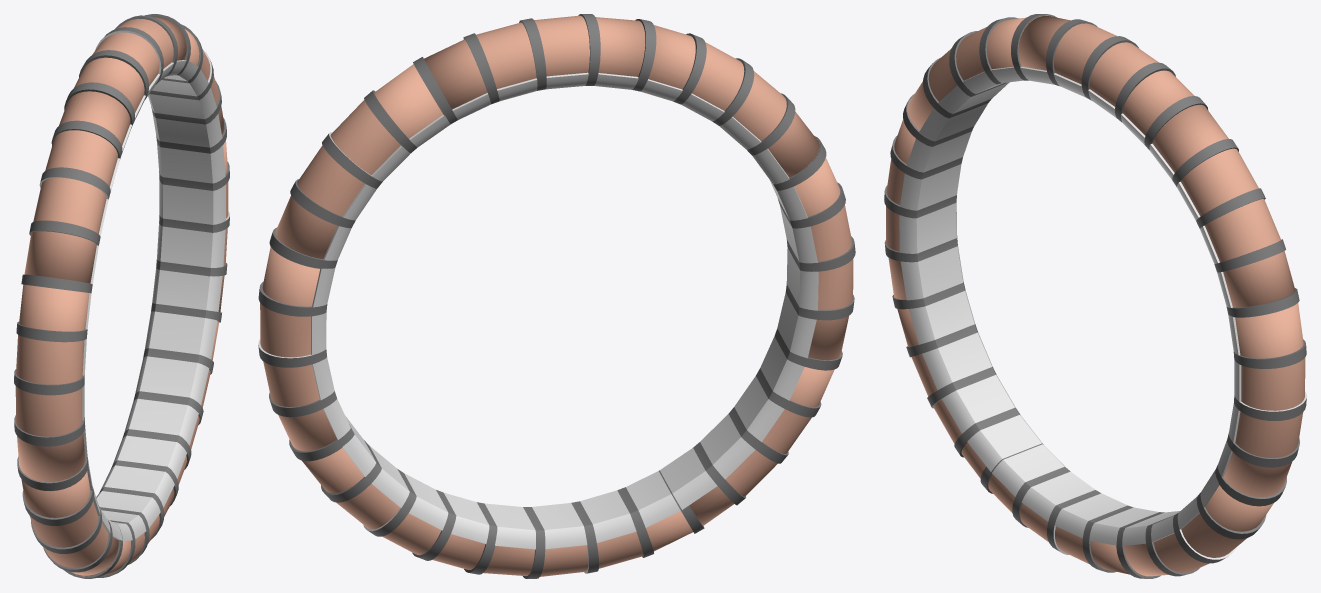
Rendered from tubecircle.fbx.
The picture shows the model from 3 angles, left to right: view 1: azimuth 30°, elevation 25°; view 2: azimuth 150°, elevation 25°; view 3: azimuth 270°, elevation 25°; orthographic projection. The views are drawn at different scales.
Parts seen in each view (by area): view 1: window2.005; view 2: window2.005; view 3: window2.005.
Part boxes in pixels (x1,y1,x2,y2): window2.005: [14, 14, 229, 578]; window2.005: [258, 14, 855, 578]; window2.005: [884, 14, 1306, 578].
Bounding box in the file's own units: 2598 × 2452 × 3396.
